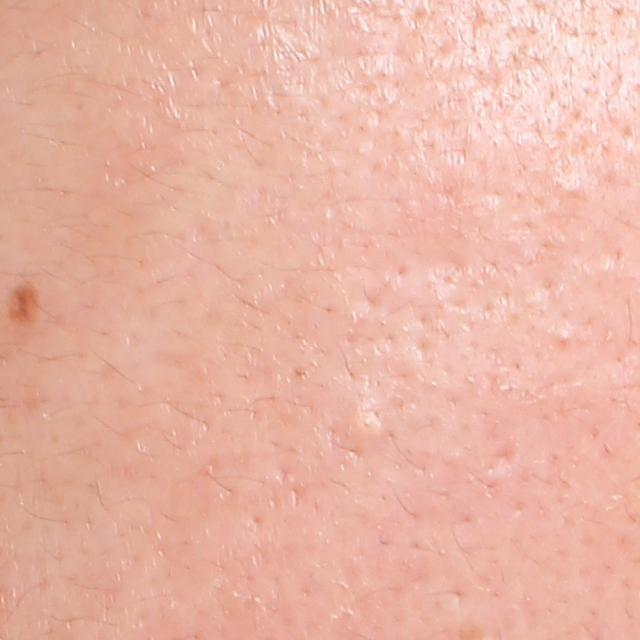comedo: (352, 409, 388, 439), (552, 328, 580, 351)
nevus: (7, 279, 44, 329)
